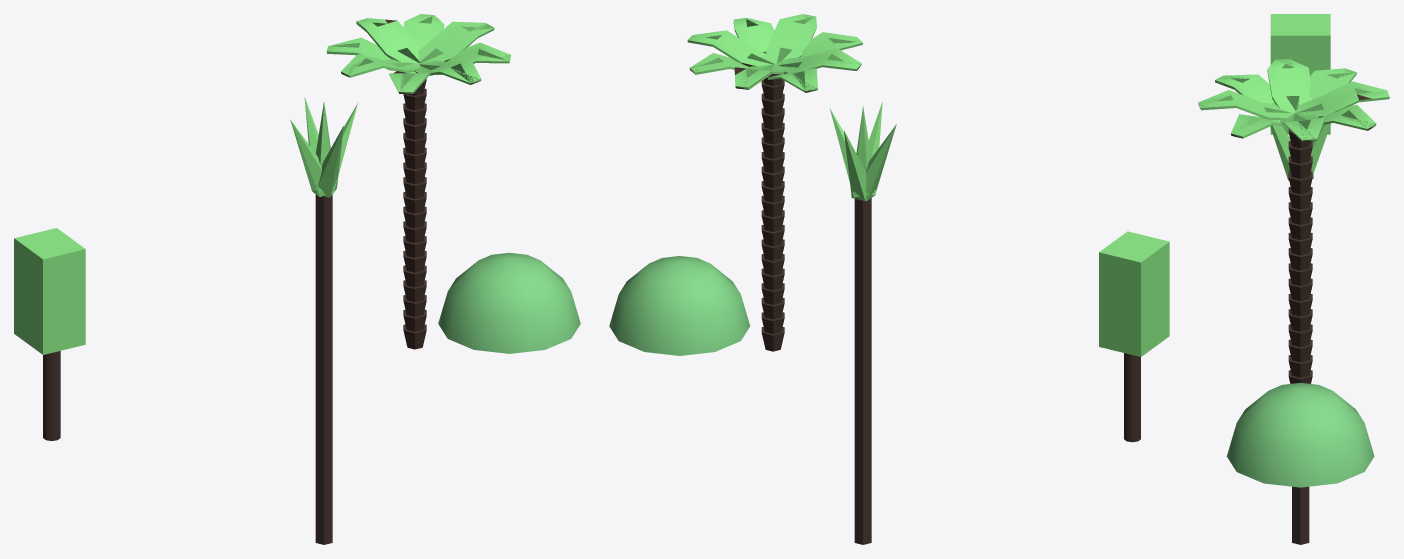
The model's file is tree (1).fbx.
The picture shows the model from 3 angles, left to right: view 1: azimuth 30°, elevation 25°; view 2: azimuth 150°, elevation 25°; view 3: azimuth 270°, elevation 25°; orthographic projection. The views are drawn at different scales.
Visible parts, largest first — view 1: palm, Sphere, tree1, tree2; view 2: palm, Sphere, tree1, tree2; view 3: palm, Sphere, tree1, tree2.
Boxes of the visible parts, x1,y1,x2,y2 form: palm: (326,14,510,349); Sphere: (438,252,580,353); tree1: (14,228,85,440); tree2: (290,97,357,544); palm: (687,14,862,351); Sphere: (609,256,749,355); tree1: (1099,231,1169,442); tree2: (829,102,896,544); palm: (1198,59,1389,383); Sphere: (1226,382,1374,487); tree1: (1270,14,1330,134); tree2: (1270,123,1330,544).
Bounding box in the file's own units: 510 × 427 × 150.
Materials: 1 (1 with a texture image).
